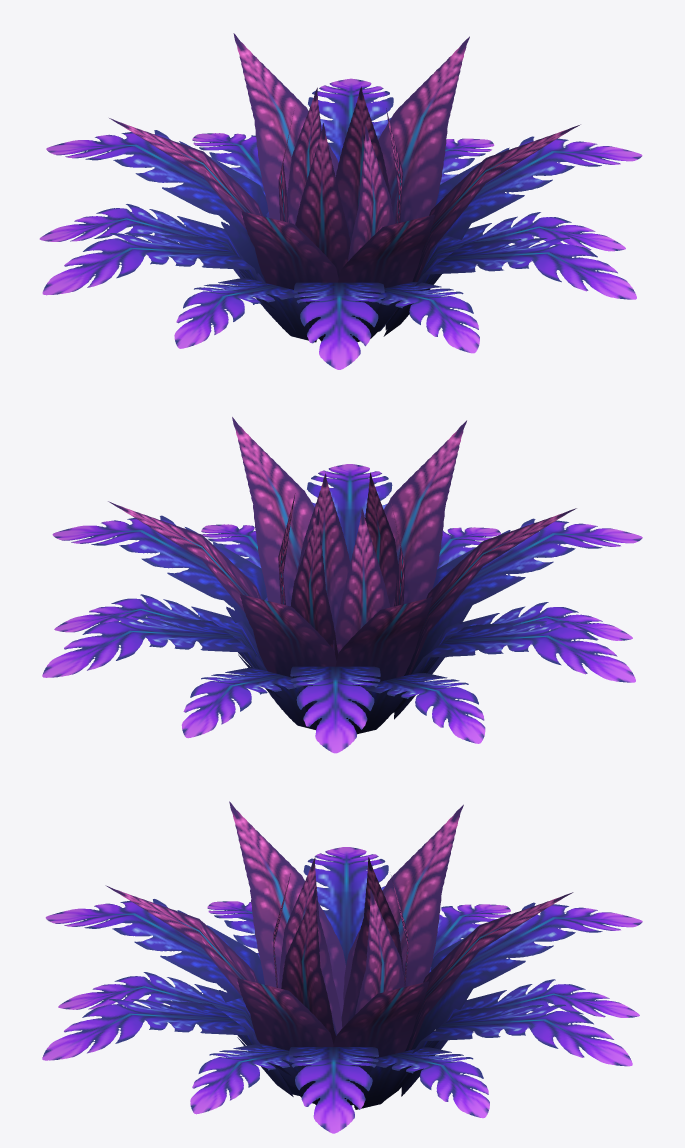
File: Blue_Bush_03b.FBX
3 views of the same model, one above another, from view 1: azimuth 30°, elevation 25°; view 2: azimuth 150°, elevation 25°; view 3: azimuth 270°, elevation 25° (orthographic).
Parts seen in each view (by area): view 1: Blue_Bush_03b; view 2: Blue_Bush_03b; view 3: Blue_Bush_03b.
Part boxes in pixels (bbox=[...]): Blue_Bush_03b: bbox=[39, 33, 642, 369]; Blue_Bush_03b: bbox=[42, 417, 642, 753]; Blue_Bush_03b: bbox=[42, 801, 642, 1133].
Size of the model in its own units: 243 by 89.59 by 236.
